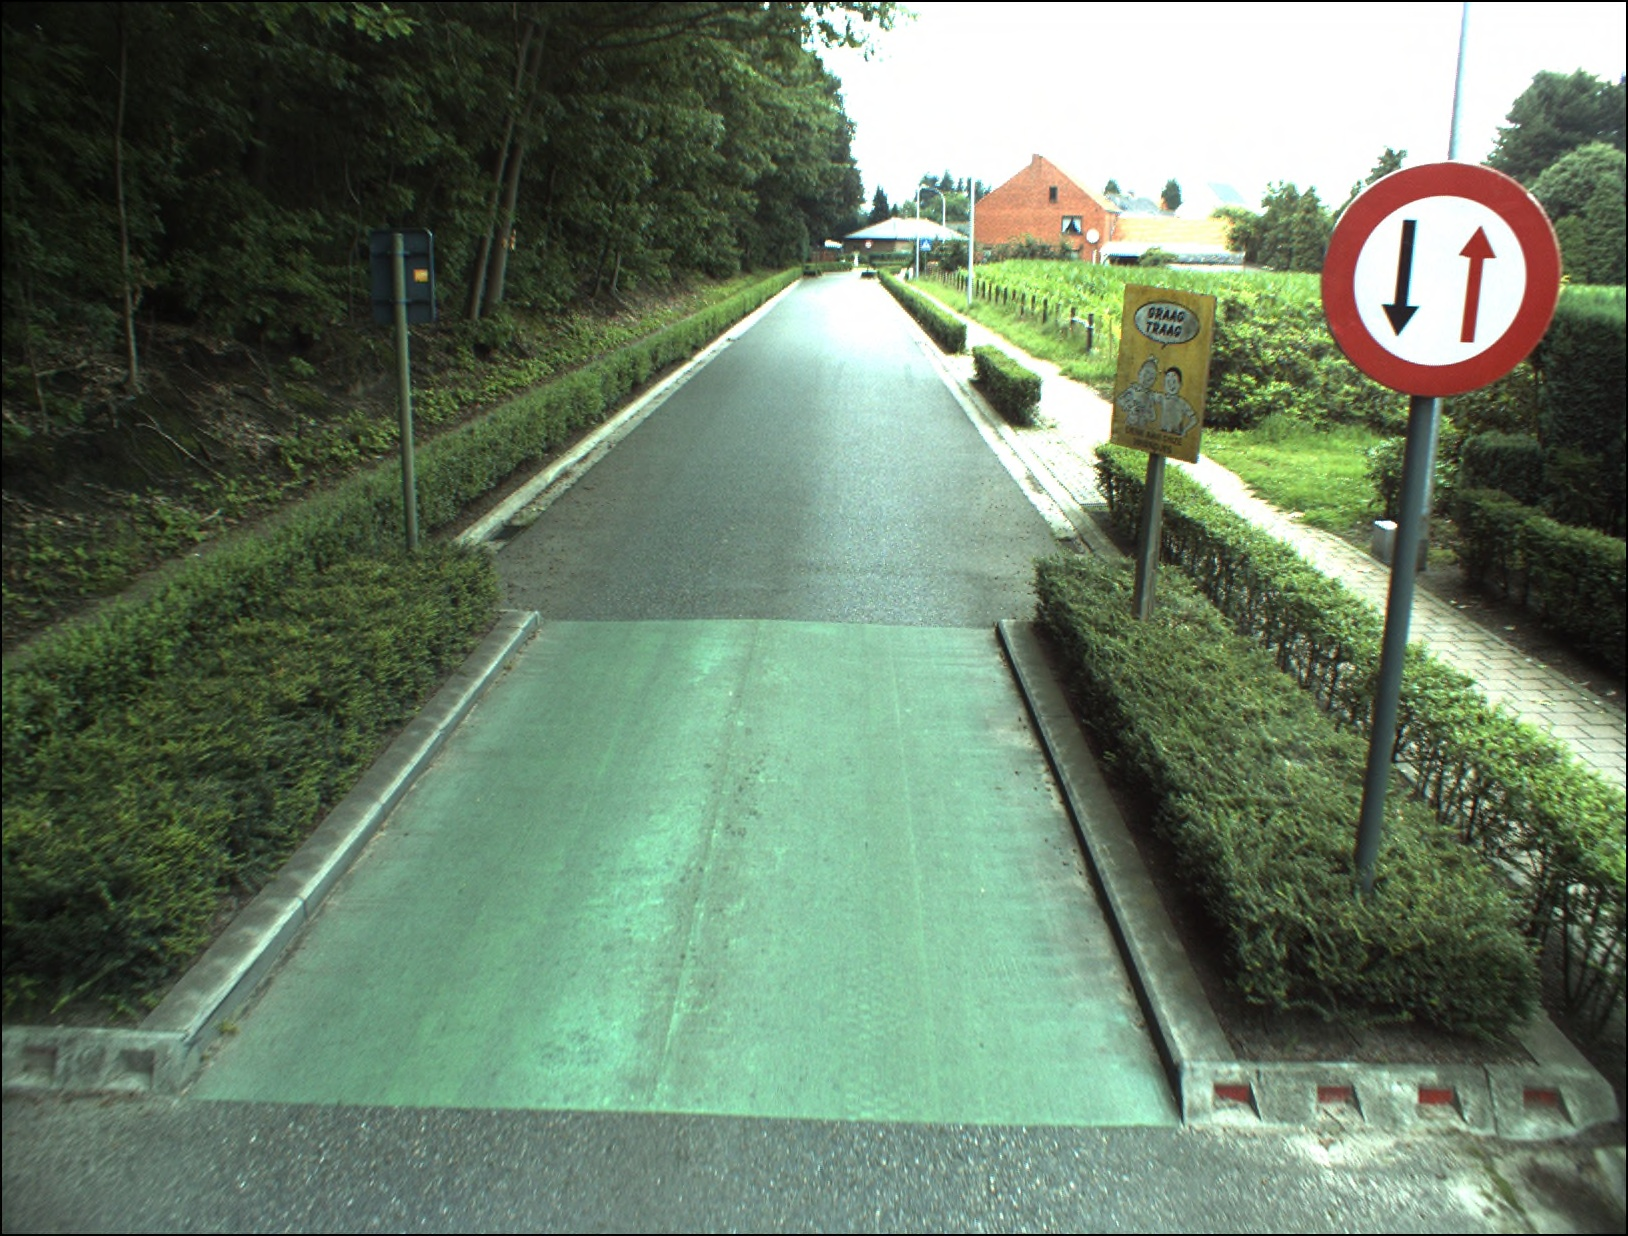roadnarrow2: (1326, 164, 1559, 393)
